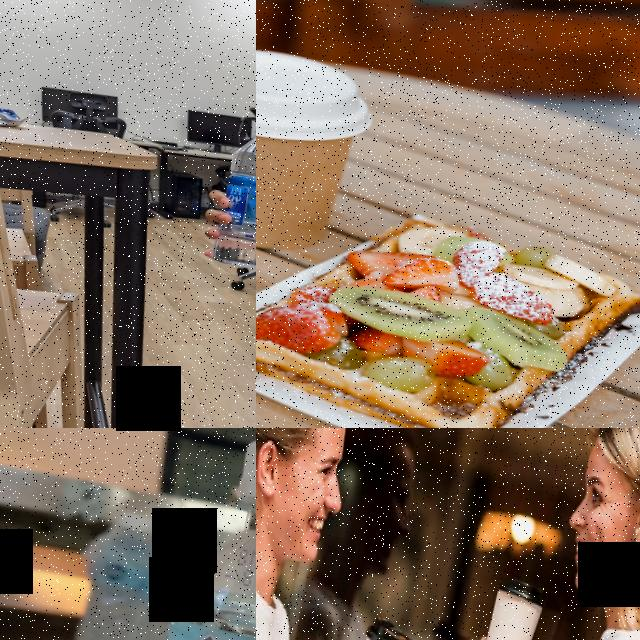bottle: (101, 428, 256, 640), (207, 113, 256, 275)
cup: (256, 34, 382, 267), (469, 571, 550, 640), (337, 610, 421, 640)
